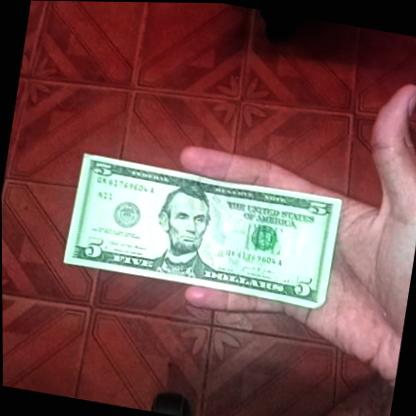five-front: (64, 152, 346, 312)
